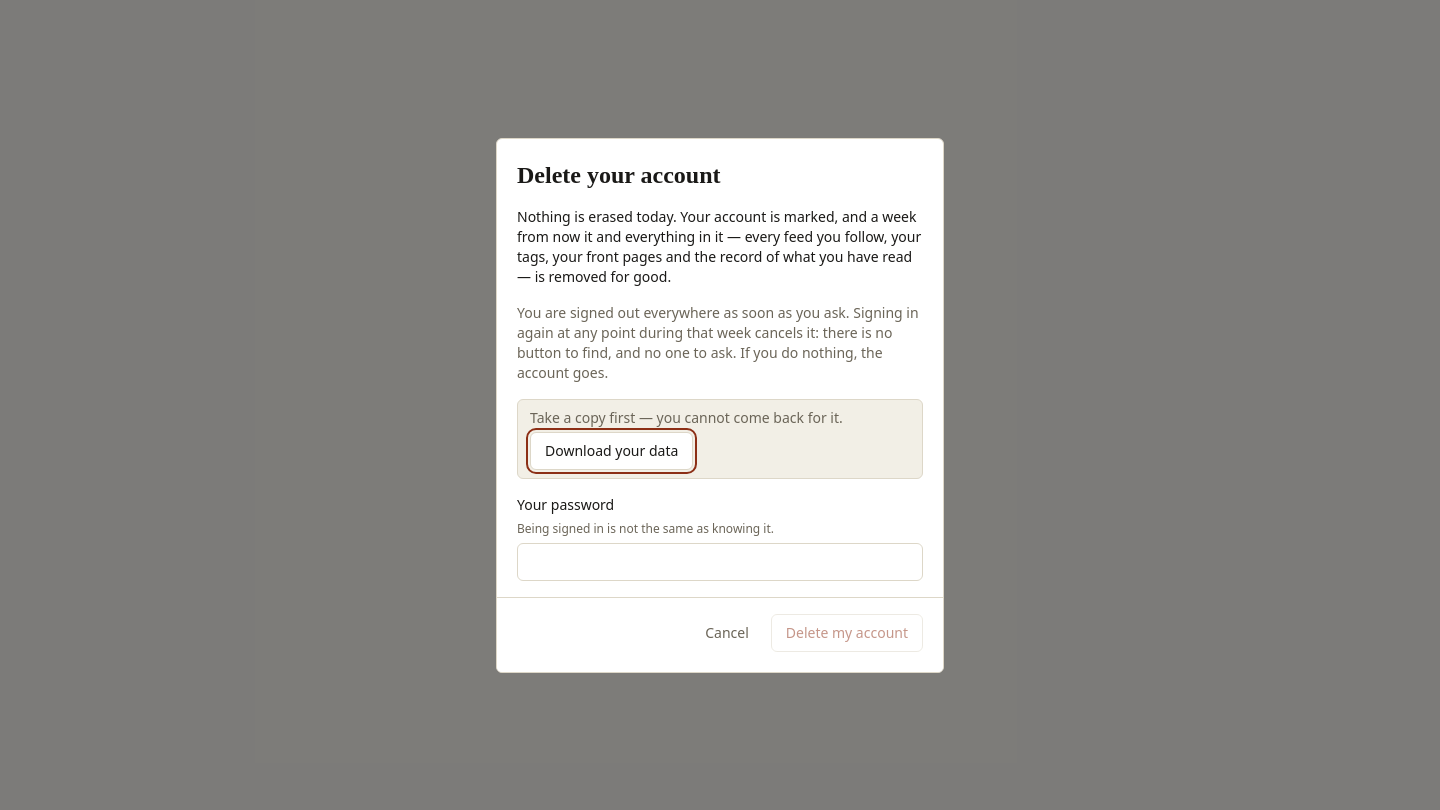
DeleteAccountDialog › says when it happens and how to stop it
Expected: the text "Nothing is erased today" is shown, [517,206,921,286]
In the password field labelled "Your password": (720, 562) [517,542,923,580], type "hunter2"
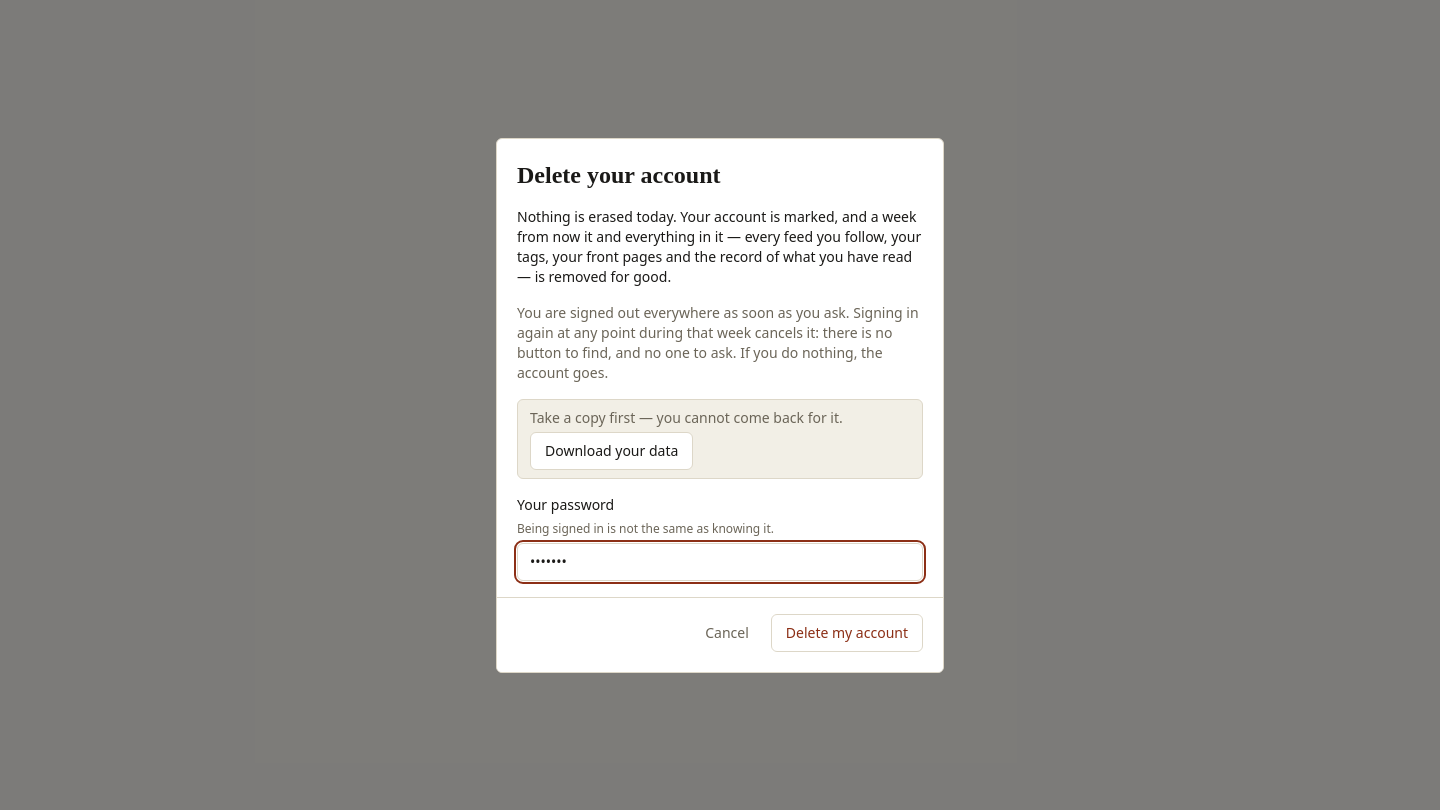
Click the button "Delete my account": (847, 632) [771,614,923,652]
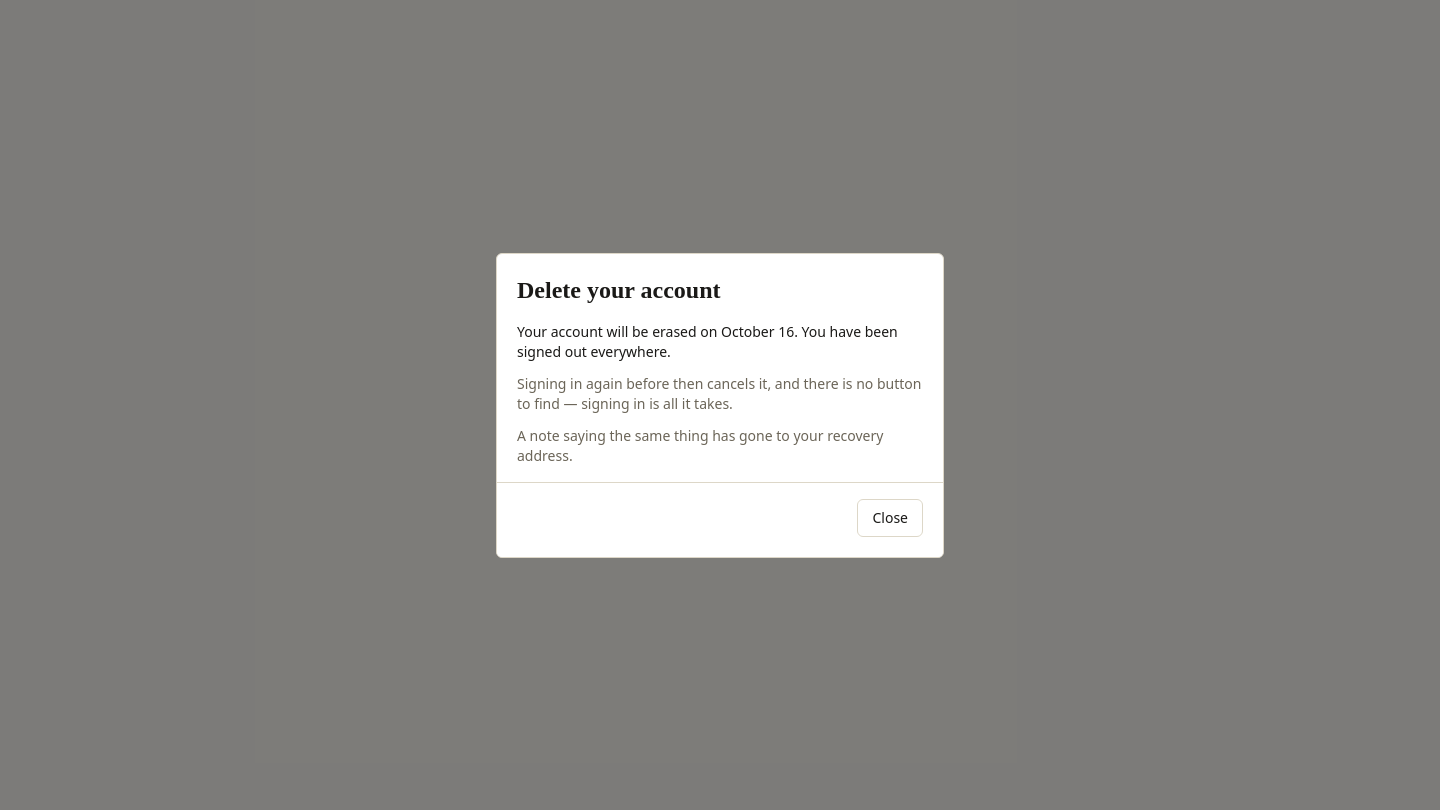
Expected: the text "Your account will be erased on" is shown, [517,322,721,340]
Expected: the text "Signing in again before then" is shown, [517,374,921,412]
